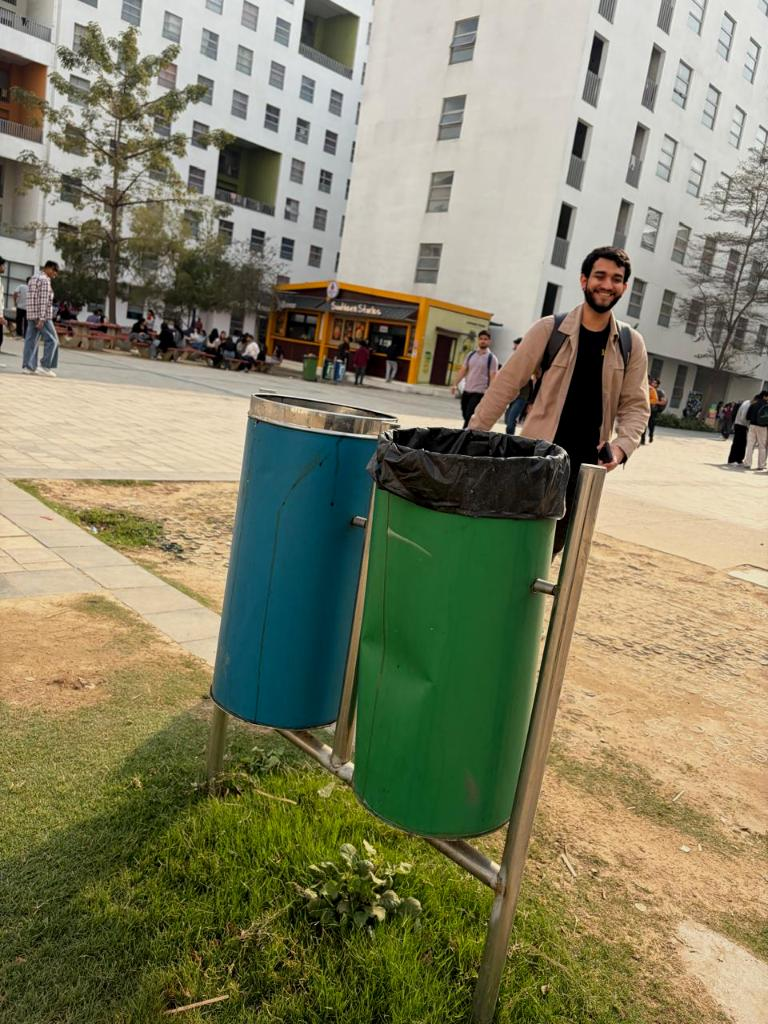dustbin: (197, 367, 615, 887)
